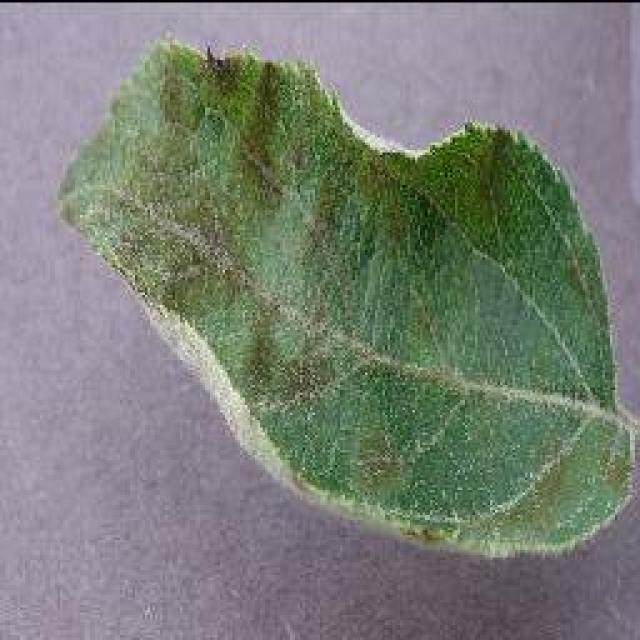apple scab disease: (55, 32, 637, 560)
